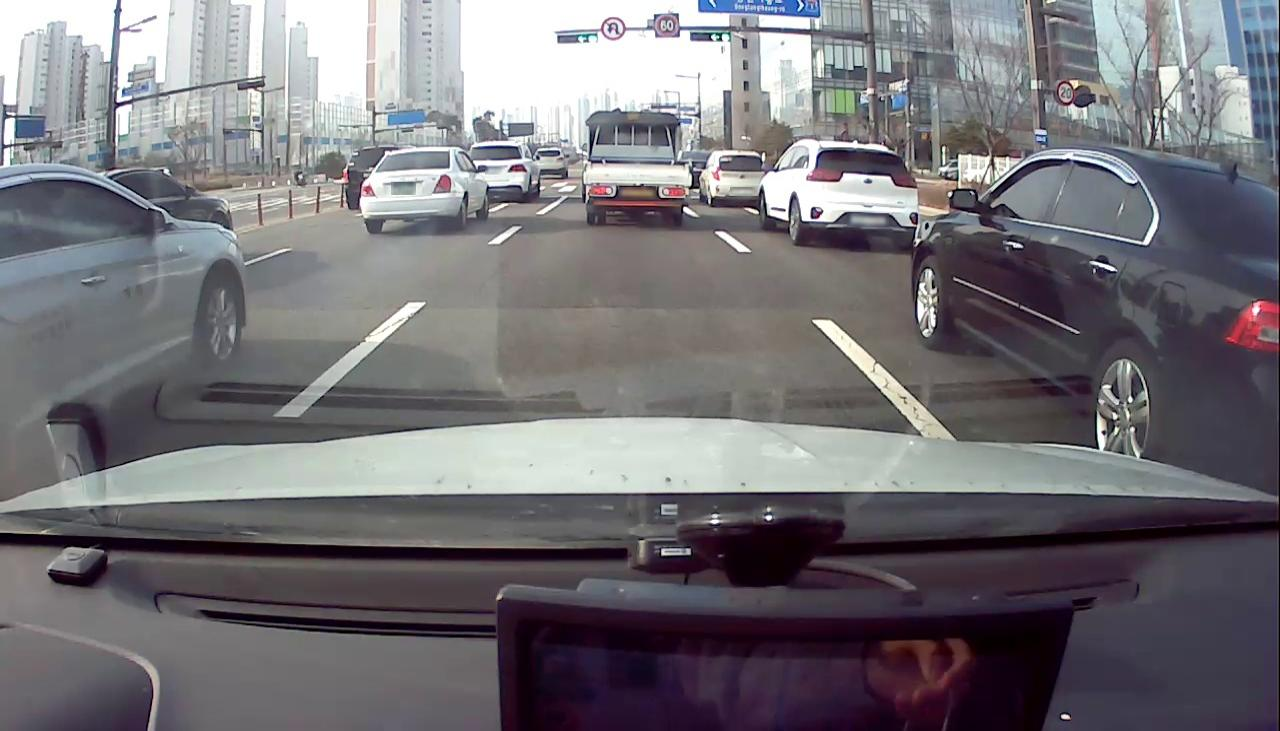Green Light: (588, 34, 598, 44), (721, 33, 730, 42)
Left turn: (577, 34, 588, 44), (710, 32, 720, 42)
